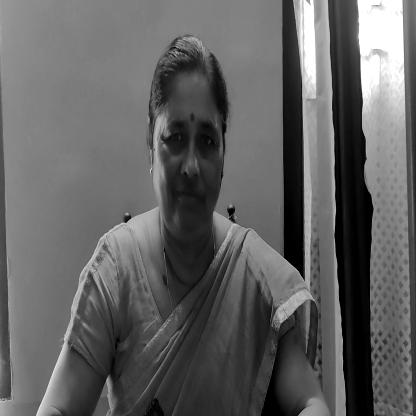Normal: (141, 33, 228, 234)
